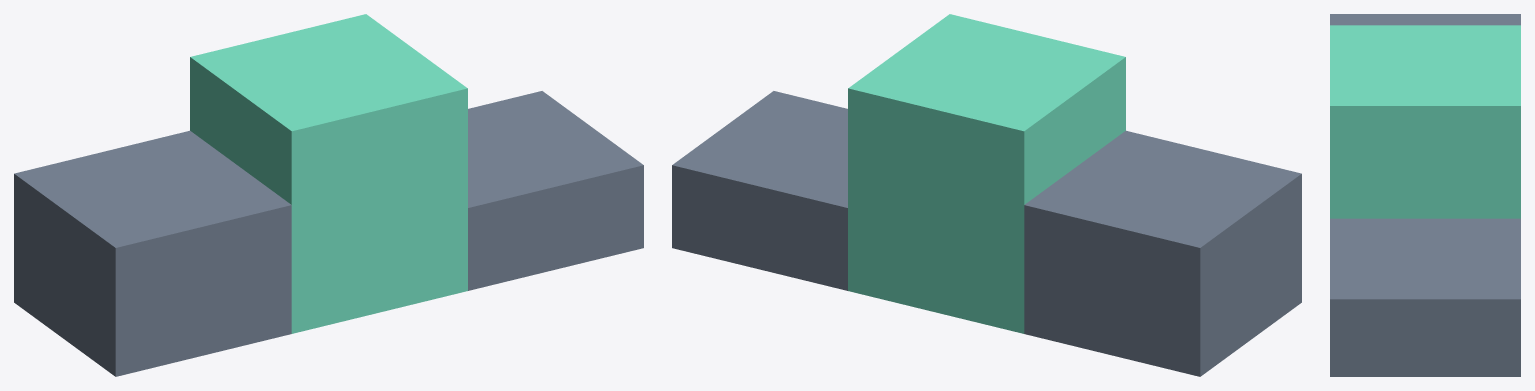
The model's file is podium.glb.
3 renders of one model, left to right at view 1: azimuth 30°, elevation 25°; view 2: azimuth 150°, elevation 25°; view 3: azimuth 270°, elevation 25°, orthographic. The views are drawn at different scales.
Parts seen in each view (by area): view 1: podium; view 2: podium; view 3: podium.
Boxes of the visible parts, x1,y1,x2,y2 form: podium: (14, 14, 643, 376); podium: (672, 14, 1301, 376); podium: (1330, 14, 1520, 376).
Size of the model in its own units: 0.3 by 0.11 by 0.1.
